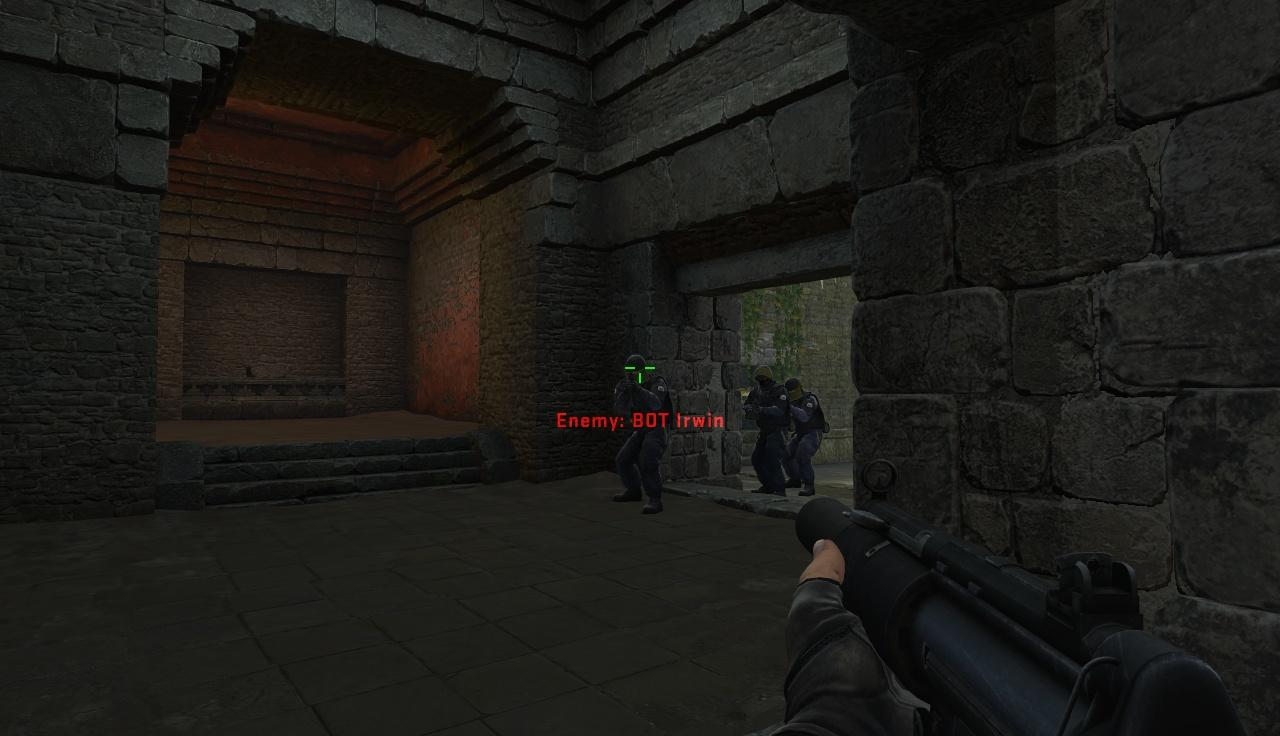ct: (619, 353, 673, 514), (768, 374, 824, 494), (748, 368, 792, 496)
cthead: (626, 356, 649, 384), (757, 368, 778, 391), (783, 378, 803, 397)
rifle: (782, 498, 1240, 736)
